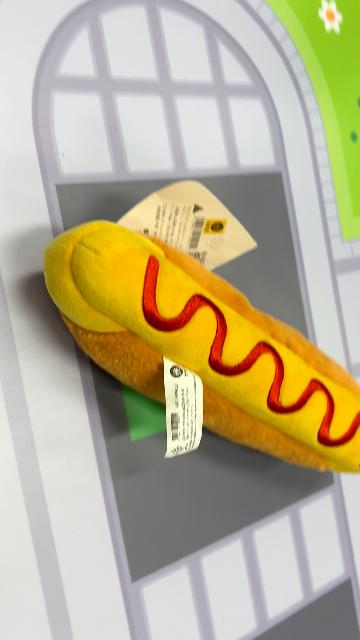hotdog: (42, 218, 358, 476)
